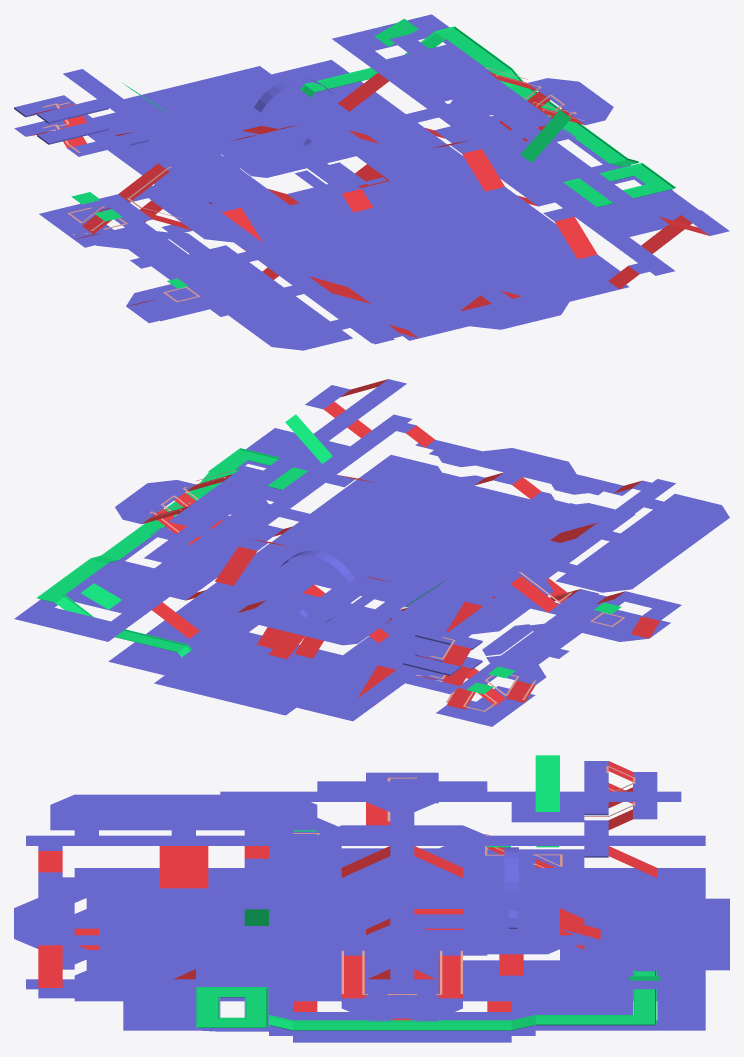
Rendered from Arena_002_Collision_Floor.fbx.
3 renders of one model, top to bottom at view 1: azimuth 30°, elevation 25°; view 2: azimuth 150°, elevation 25°; view 3: azimuth 270°, elevation 25°, orthographic. The views are drawn at different scales.
Parts seen in each view (by area): view 1: Arena_002_Collision_Floor; view 2: Arena_002_Collision_Floor; view 3: Arena_002_Collision_Floor.
Boxes of the visible parts, x1=… form: Arena_002_Collision_Floor: x1=14, y1=14, x2=729, y2=350; Arena_002_Collision_Floor: x1=14, y1=379, x2=729, y2=726; Arena_002_Collision_Floor: x1=14, y1=755, x2=729, y2=1042.
Bounding box in the file's own units: 10200 × 2359 × 11800.
